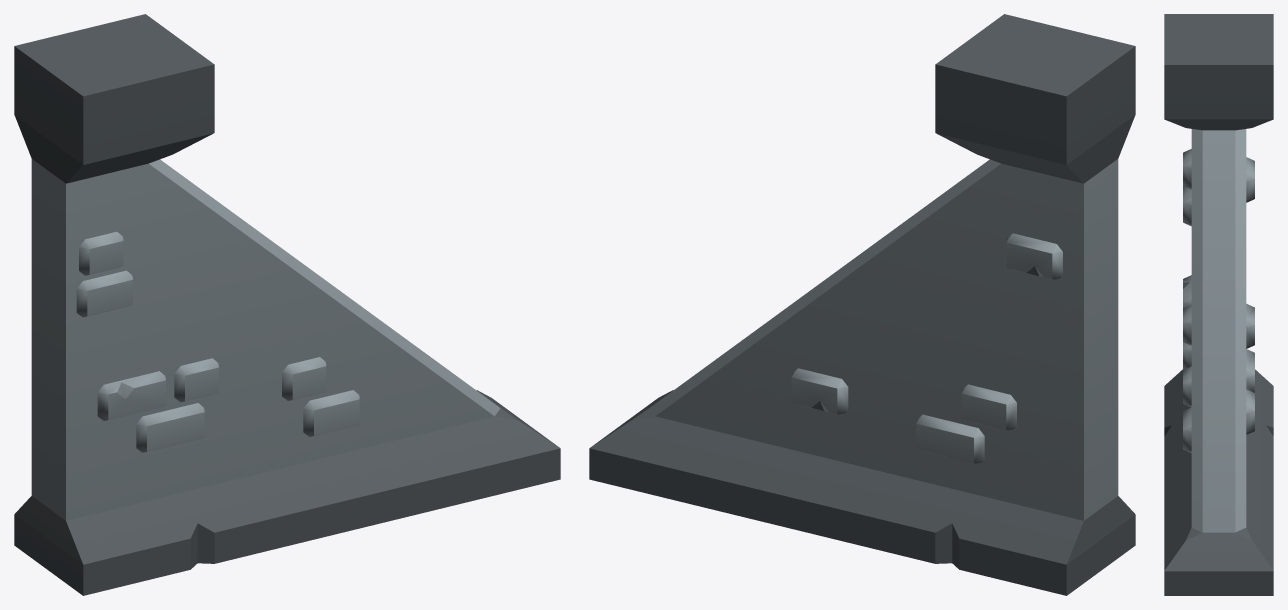
File: wall_sloped.gltf
3 renders of one model, left to right at view 1: azimuth 30°, elevation 25°; view 2: azimuth 150°, elevation 25°; view 3: azimuth 270°, elevation 25°, orthographic. The views are drawn at different scales.
Visible parts, largest first — view 1: wall_sloped; view 2: wall_sloped; view 3: wall_sloped.
Boxes of the visible parts, x1,y1,x2,y2 form: wall_sloped: (14, 14, 560, 595); wall_sloped: (589, 14, 1135, 595); wall_sloped: (1164, 14, 1273, 595).
Bounding box in the file's own units: 4 × 4 × 1.
Materials: 1 (1 with a texture image).
